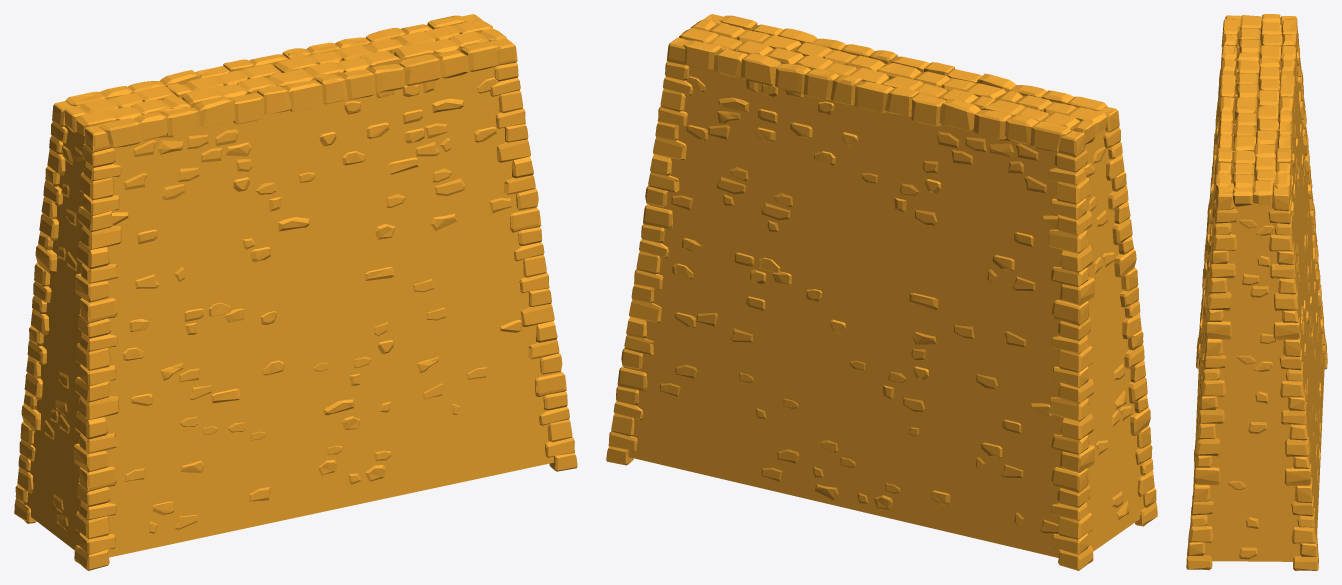
The model's file is SM_Bridge_Covered_Middle_Pillar.fbx.
The picture shows the model from 3 angles, left to right: view 1: azimuth 30°, elevation 25°; view 2: azimuth 150°, elevation 25°; view 3: azimuth 270°, elevation 25°; orthographic projection. The views are drawn at different scales.
Visible parts, largest first — view 1: bridge-covered-middle-pillar; view 2: bridge-covered-middle-pillar; view 3: bridge-covered-middle-pillar.
Part boxes in pixels (x1,y1,x2,y2): bridge-covered-middle-pillar: [14, 14, 577, 570]; bridge-covered-middle-pillar: [606, 14, 1157, 570]; bridge-covered-middle-pillar: [1186, 14, 1327, 570].
Size of the model in its own units: 9.56 by 8.12 by 2.83.
